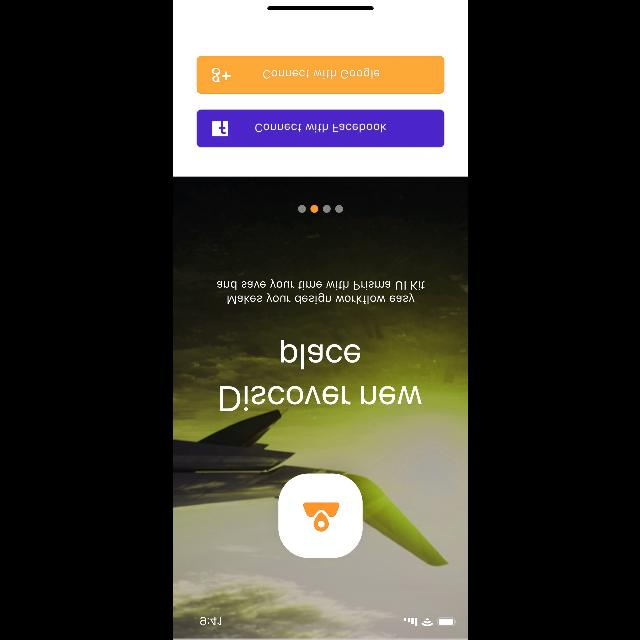backgroundimage: (172, 176, 468, 640)
image: (278, 474, 362, 558)
pageindicator: (298, 205, 342, 213)
text: (219, 339, 421, 411), (216, 279, 424, 305)
textbutton: (196, 56, 444, 94), (196, 109, 444, 147)
uppertaskbar: (199, 616, 456, 626)
